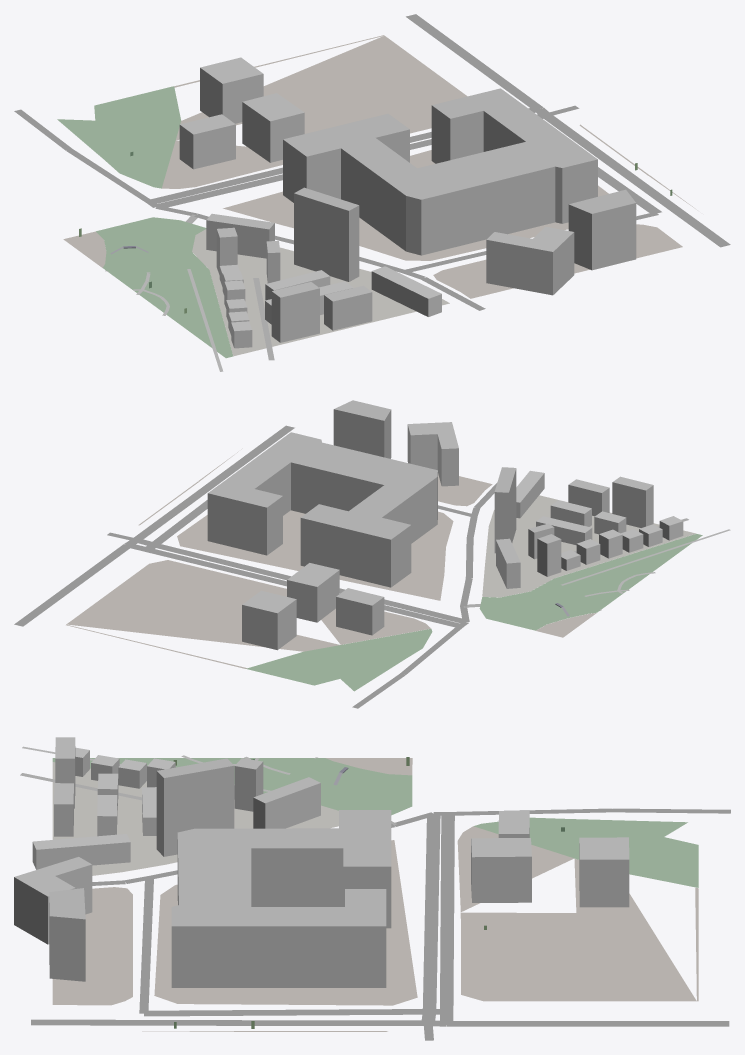
3 views of the same model, one above another, from view 1: azimuth 30°, elevation 25°; view 2: azimuth 150°, elevation 25°; view 3: azimuth 270°, elevation 25° (orthographic). The views are drawn at different scales.
Bounding box in the file's own units: 535 × 68.23 × 555.
